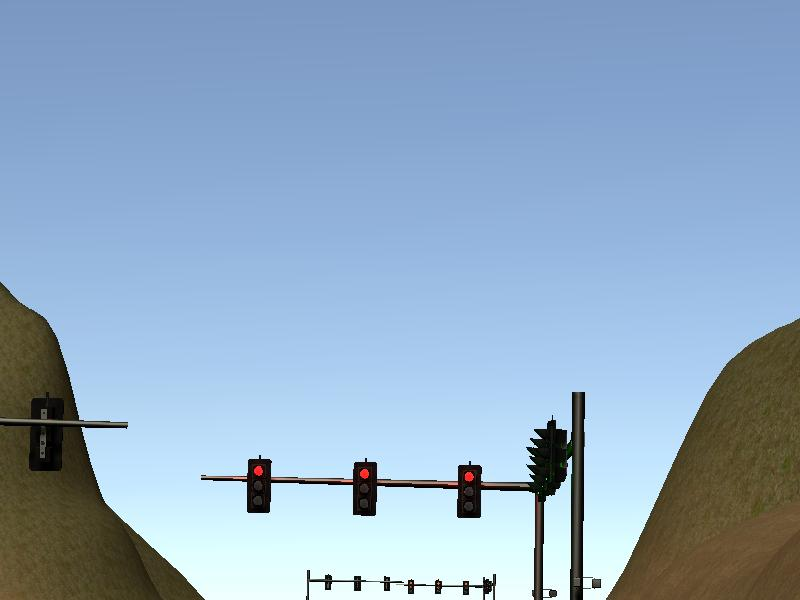Red: (245, 458, 271, 513), (352, 461, 377, 516), (459, 464, 481, 518)
